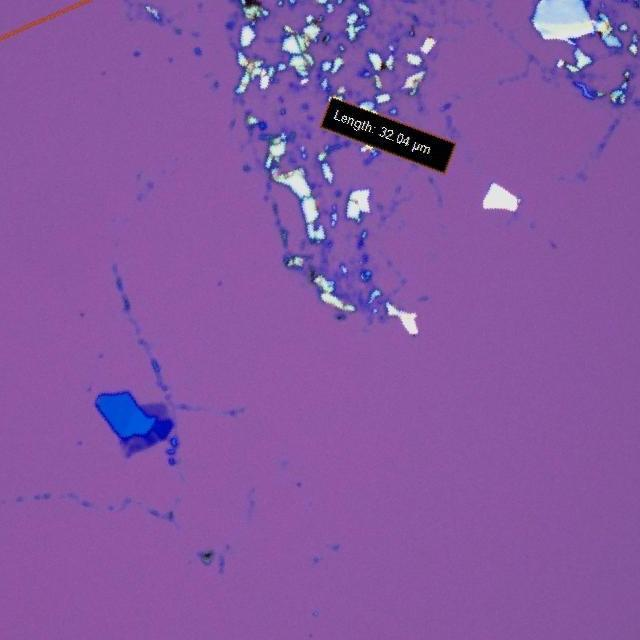monolayer-eWW4: (138, 400, 168, 420)
